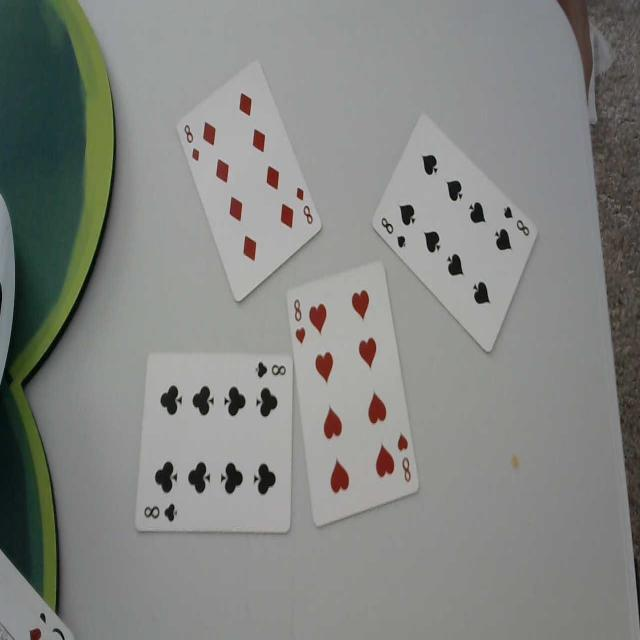8C: (142, 501, 178, 524), (254, 358, 287, 383)
8D: (183, 120, 200, 169), (294, 185, 313, 225)
8H: (395, 428, 412, 486), (292, 295, 306, 344)
8S: (379, 212, 408, 253), (502, 202, 530, 238)
